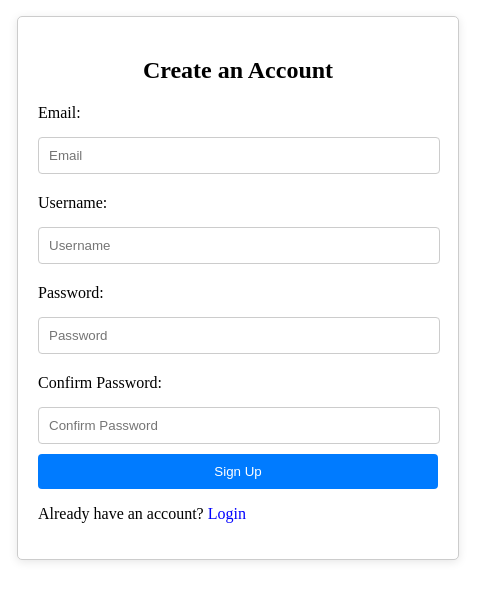
SignUp Component › displays error message for short password
This screenshot has width=477, height=608.
Type "test@example.com" into the field labelled "Email:" at (239, 155), box [38,137,440,174]
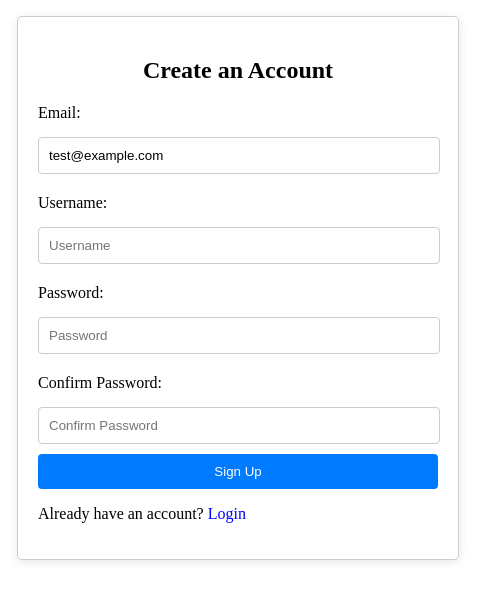
Type "testuser" into the field labelled "Username:" at (239, 245), box [38,227,440,264]
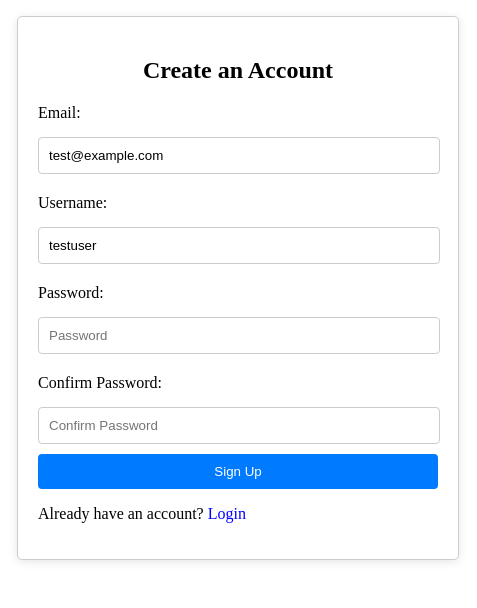
Type "short" into the password field labelled "Password:" at (239, 335), box [38,317,440,354]
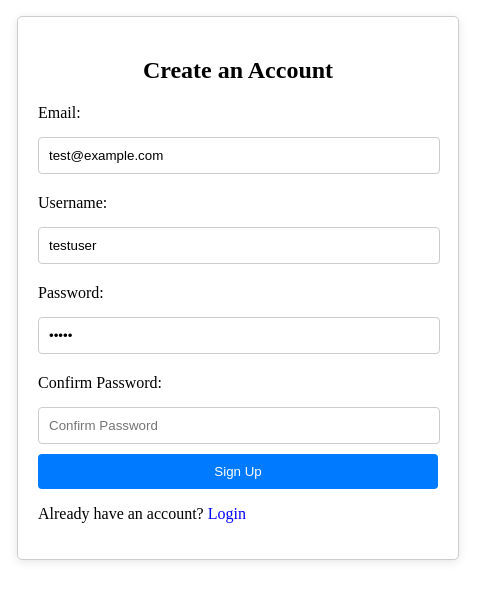
Type "short" into the password field labelled "Confirm Password:" at (239, 425), box [38,407,440,444]
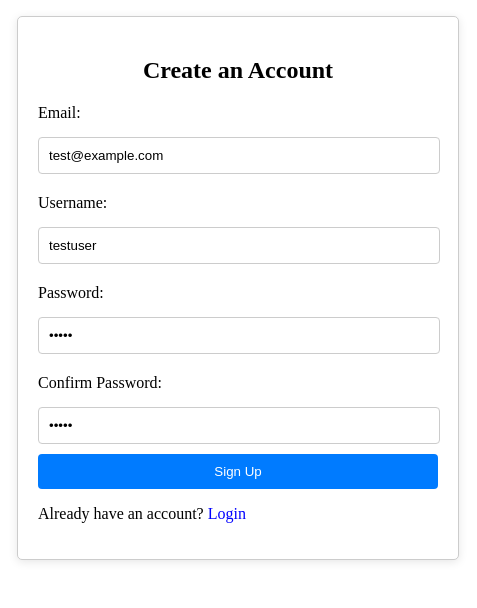
Click the button "Sign Up" at (238, 471), box [38,454,438,489]
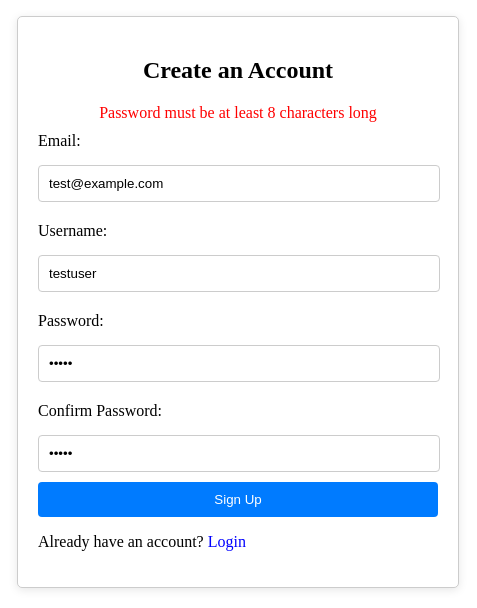
Result: the text "Password must be at least 8 characters long" is shown at [99,104,377,121]
